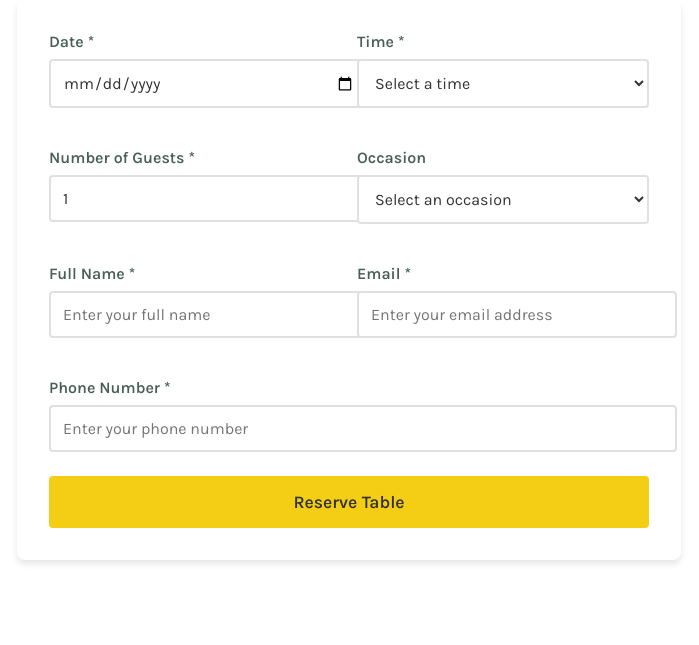
BookingForm Component › validates phone number format
Type "abc" into the field labelled "Phone Number *" at (363, 428), box [49,405,677,452]
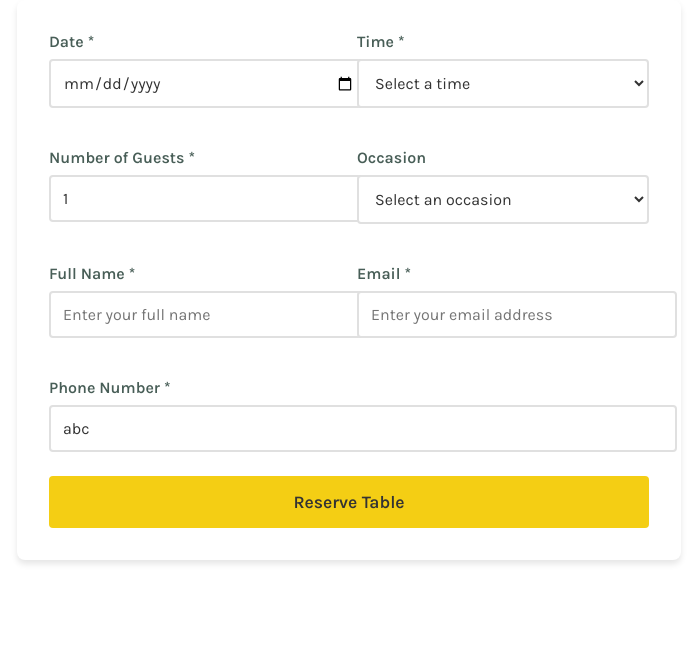
Click the button "Reserve Table" at (349, 502), box [49,476,649,528]
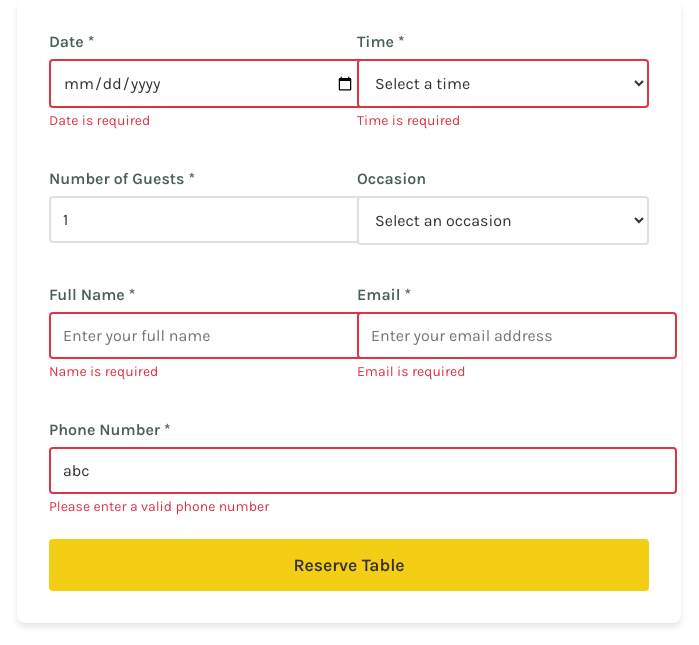
Expected: the text "Please enter a valid phone number" is shown, [49,498,269,515]
